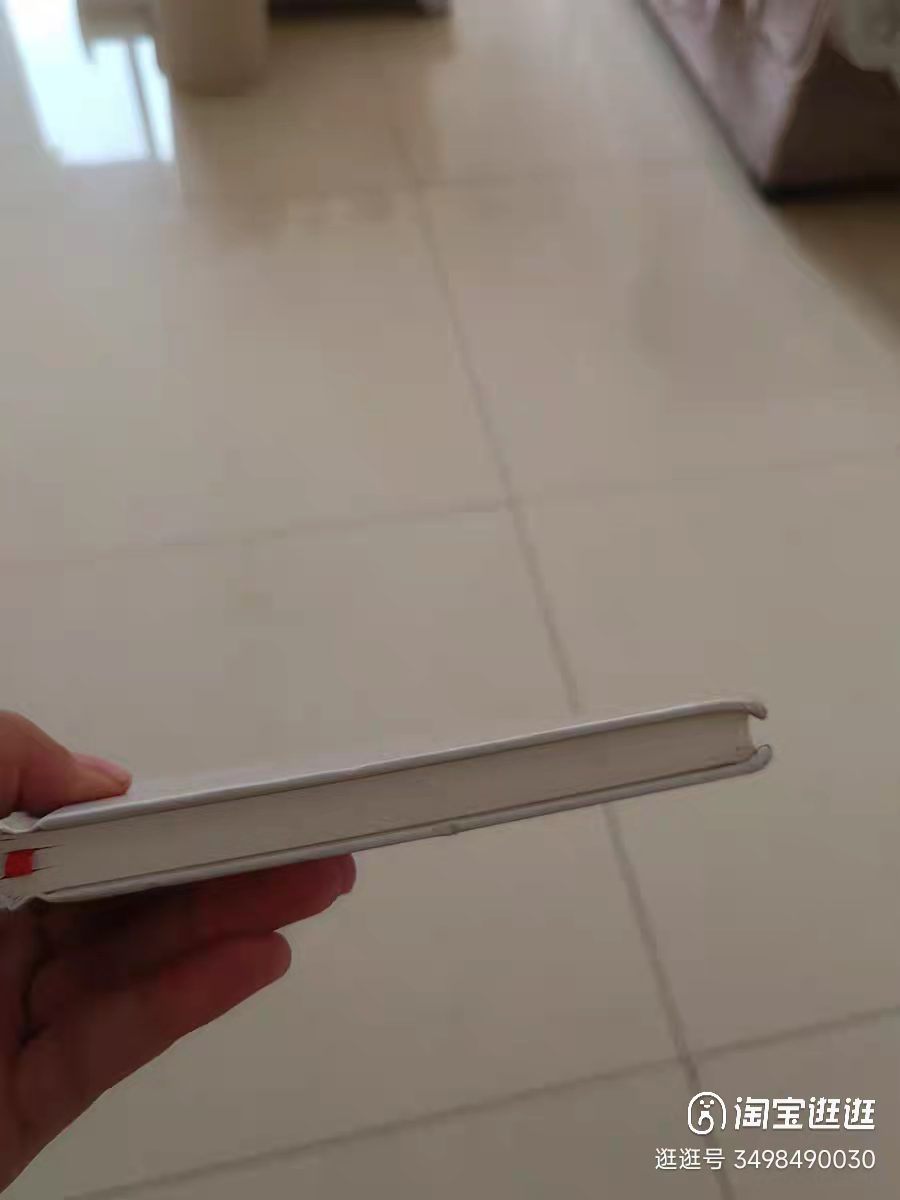book: (7, 690, 778, 912)
